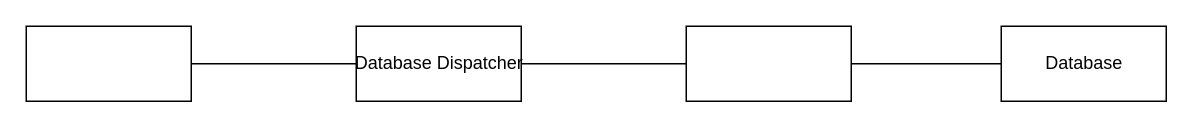
Some shapes in this 1193 by 128 pixel diagram are drawn without their labels. Each missing label, with the box of its shape:
API Listener: (25, 25, 191, 101)
Database Interface: (685, 25, 851, 101)
